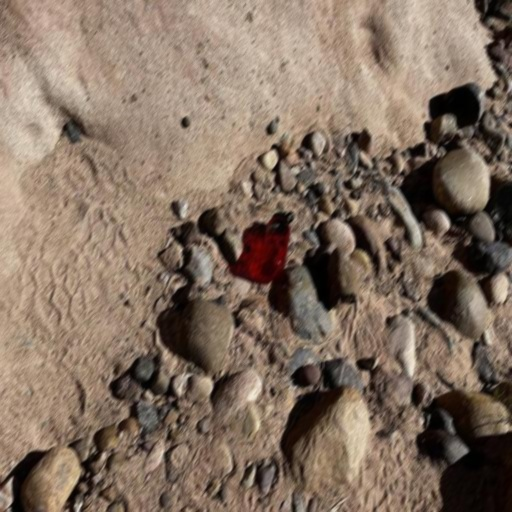bottle: (259, 212, 295, 281)
